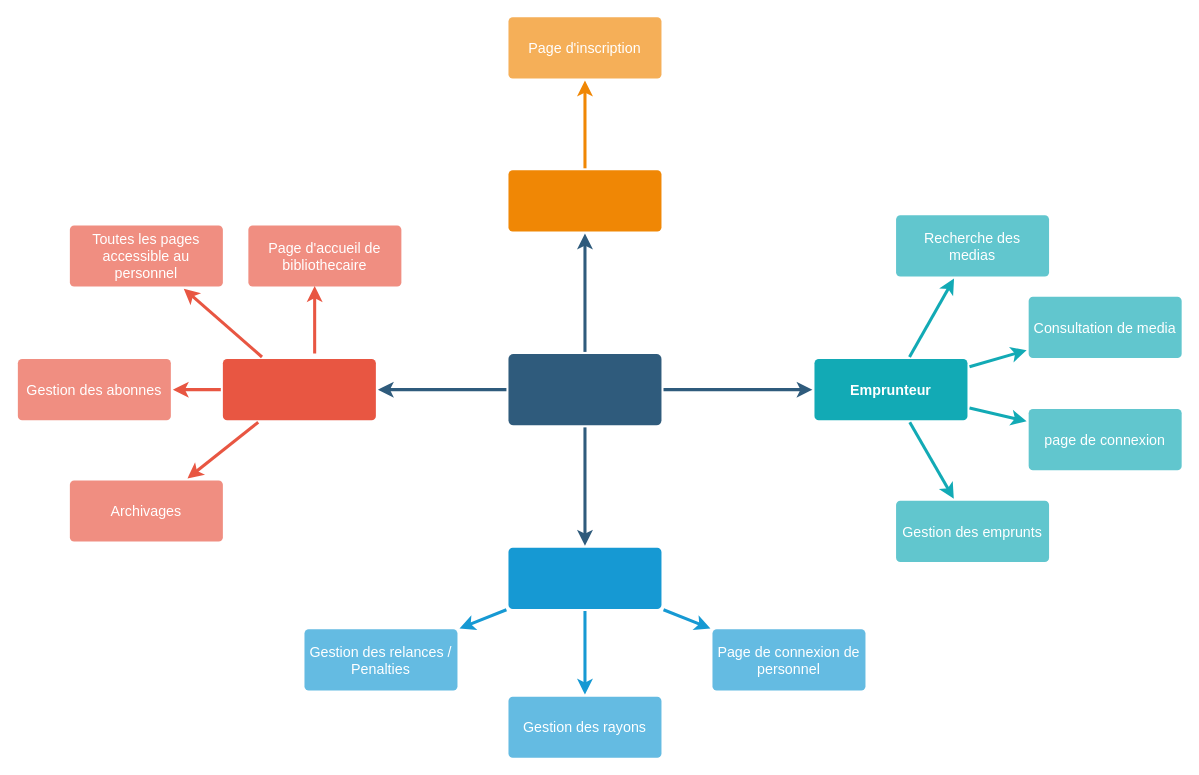
Image size: 1199x775. Some labels were removed from this diagram. Each missing label, with the centre of its shape:
"Accueil" goes at point (584, 389).
"Bibliothecaire" goes at point (298, 389).
"Personnel" goes at point (584, 577).
"Usager non-inscrit" goes at point (584, 200).
